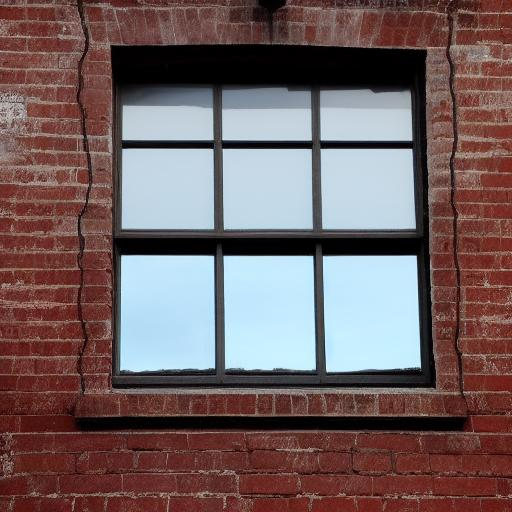Window: (74, 6, 472, 427)
